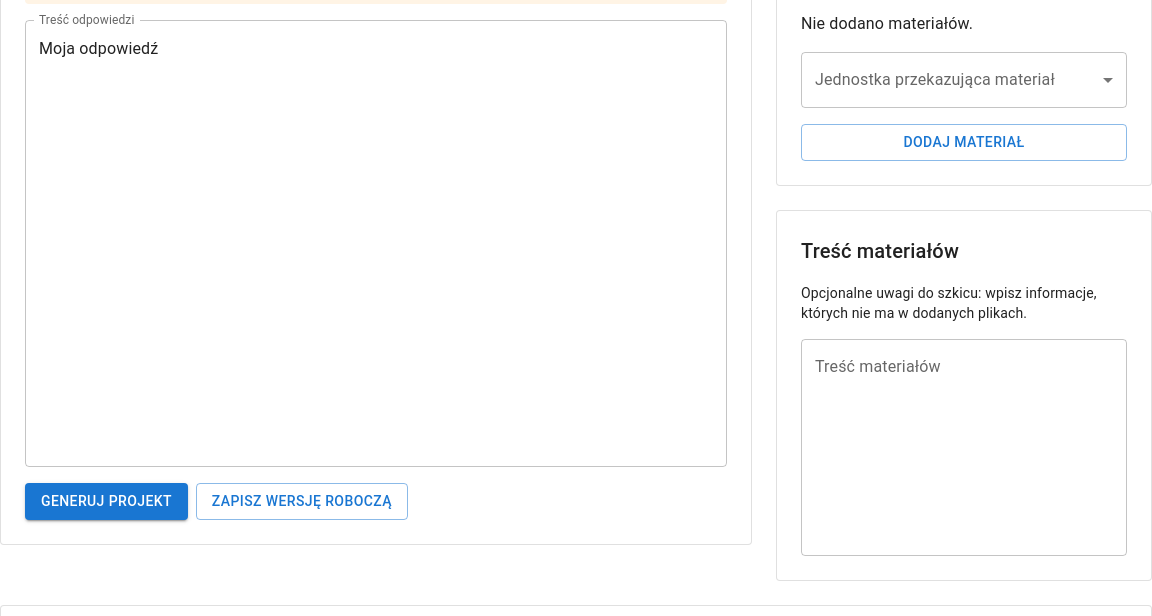
Scenario: MaterialsPage › keeps the draft unsaved when the case status cannot be updated
(page scrolled)
Click the button "Zapisz wersję roboczą": (302, 501) [196, 483, 408, 520]
(page scrolled)
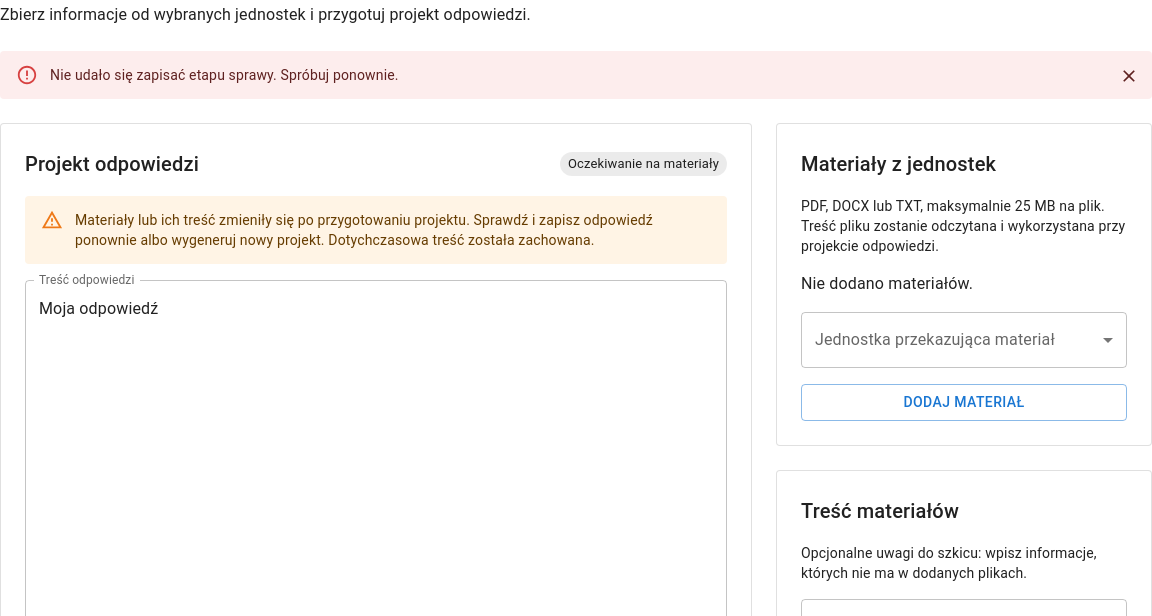
Check: the text "Nie udało się zapisać etapu sprawy. Spróbuj ponownie." is shown, box [50, 67, 399, 83]
